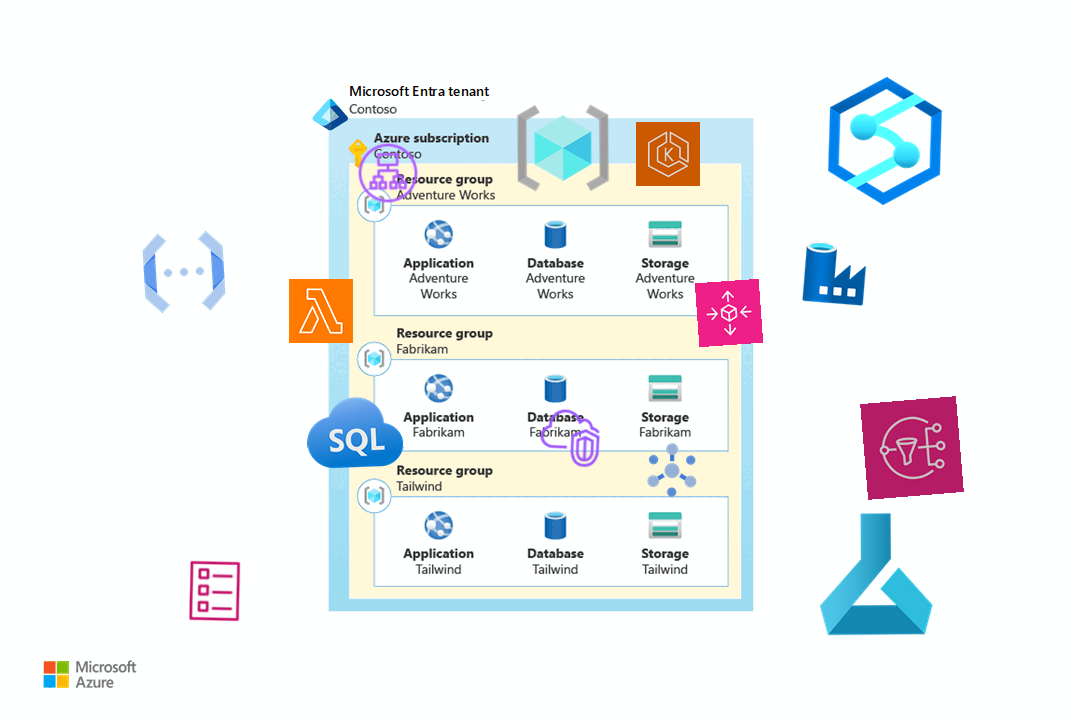aws_amazon_elastic_kubernetes_service: (635, 121, 701, 187)
aws_amazon_simple_notification_service: (860, 396, 964, 500)
aws_auto_scaling: (694, 278, 764, 348)
aws_cloudformation_template: (181, 558, 247, 624)
aws_elastic_load_balancing_application_load_balancer: (355, 140, 421, 206)
aws_lambda: (288, 278, 354, 344)
aws_vpc_virtual_private_cloud_vpc: (536, 404, 604, 472)
azure_data_factories: (800, 238, 870, 308)
azure_machine_learning: (811, 509, 941, 639)
azure_resource_groups: (514, 99, 612, 197)
azure_sql: (305, 384, 405, 484)
azure_synapse_analytics: (819, 75, 951, 207)
gcp_cloud_functions: (133, 221, 235, 323)
gcp_pubsub: (639, 437, 705, 503)
